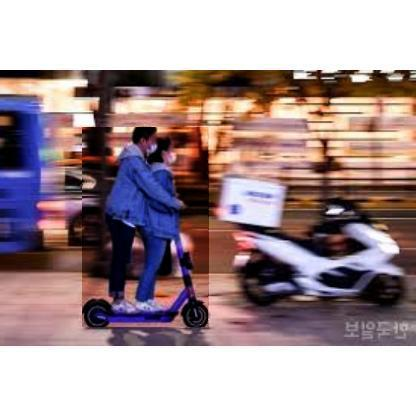with scooter: (83, 127, 210, 327)
